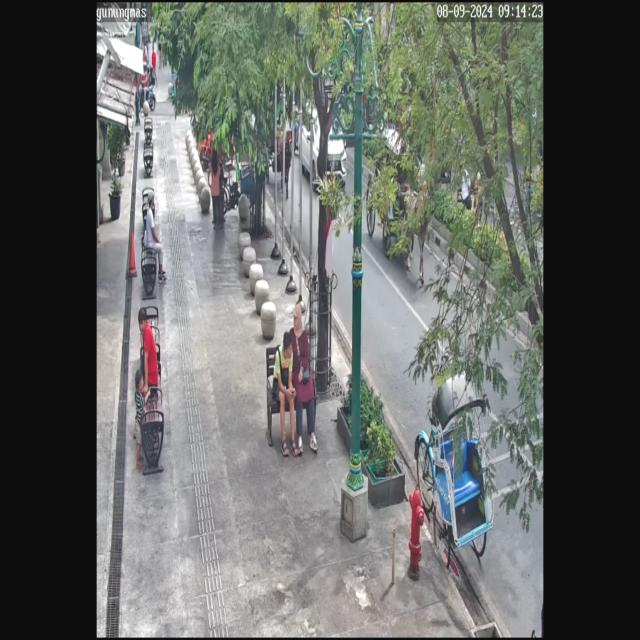Truck: (295, 90, 349, 206)
